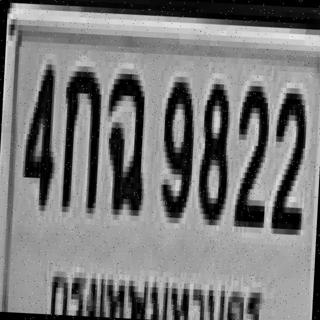A01: (58, 60, 101, 208)
A09: (101, 68, 148, 211)
N02: (269, 84, 306, 232), (232, 80, 269, 222)
N04: (21, 58, 56, 206)
N08: (195, 78, 230, 220)
N09: (158, 70, 195, 218)
